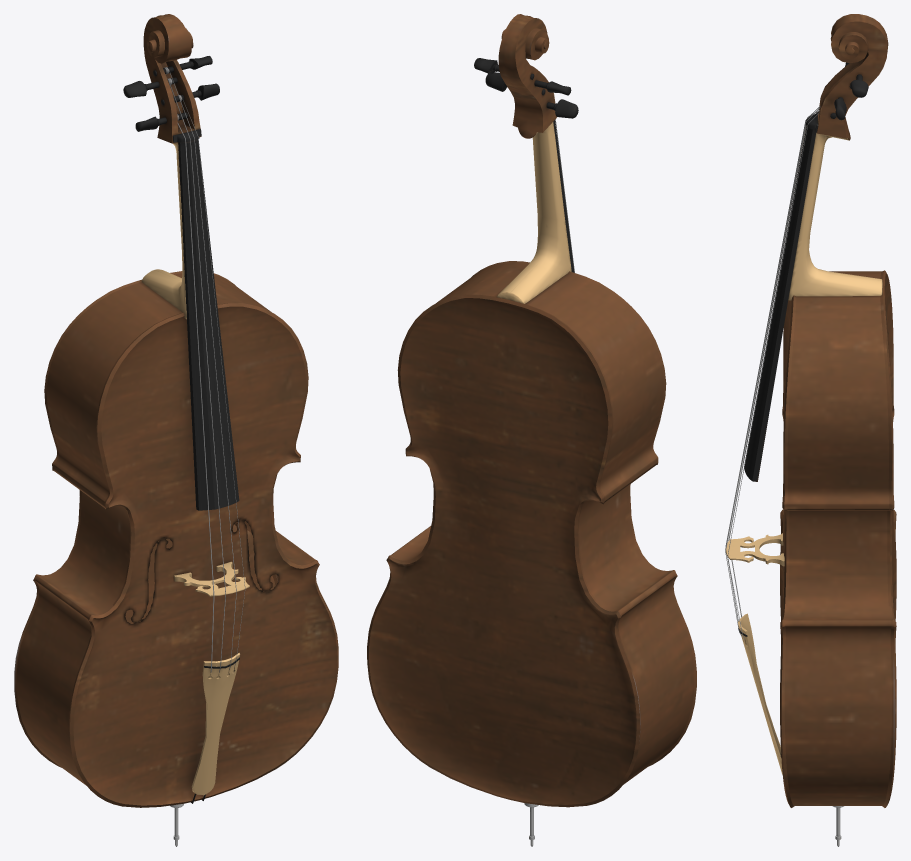
Rendered from pbr-cello--works-in-ue4-238865.glb.
The picture shows the model from 3 angles, left to right: view 1: azimuth 30°, elevation 25°; view 2: azimuth 150°, elevation 25°; view 3: azimuth 270°, elevation 25°; orthographic projection.
Visible parts, largest first — view 1: PropMesh; view 2: PropMesh; view 3: PropMesh.
Boxes of the visible parts, x1,y1,x2,y2 form: PropMesh: [14, 14, 338, 846]; PropMesh: [367, 14, 696, 846]; PropMesh: [725, 14, 896, 846].
Bounding box in the file's own units: 0.4778 × 1.4 × 0.262.
Materials: 1 (1 with a texture image).
